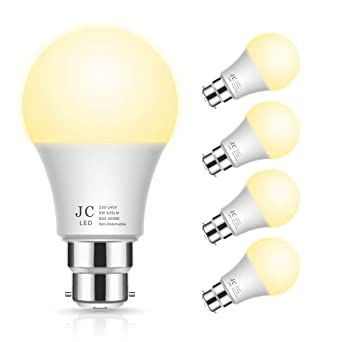bulb: (16, 21, 179, 238), (229, 233, 317, 322), (226, 166, 309, 247), (236, 94, 316, 175), (220, 24, 302, 101)
